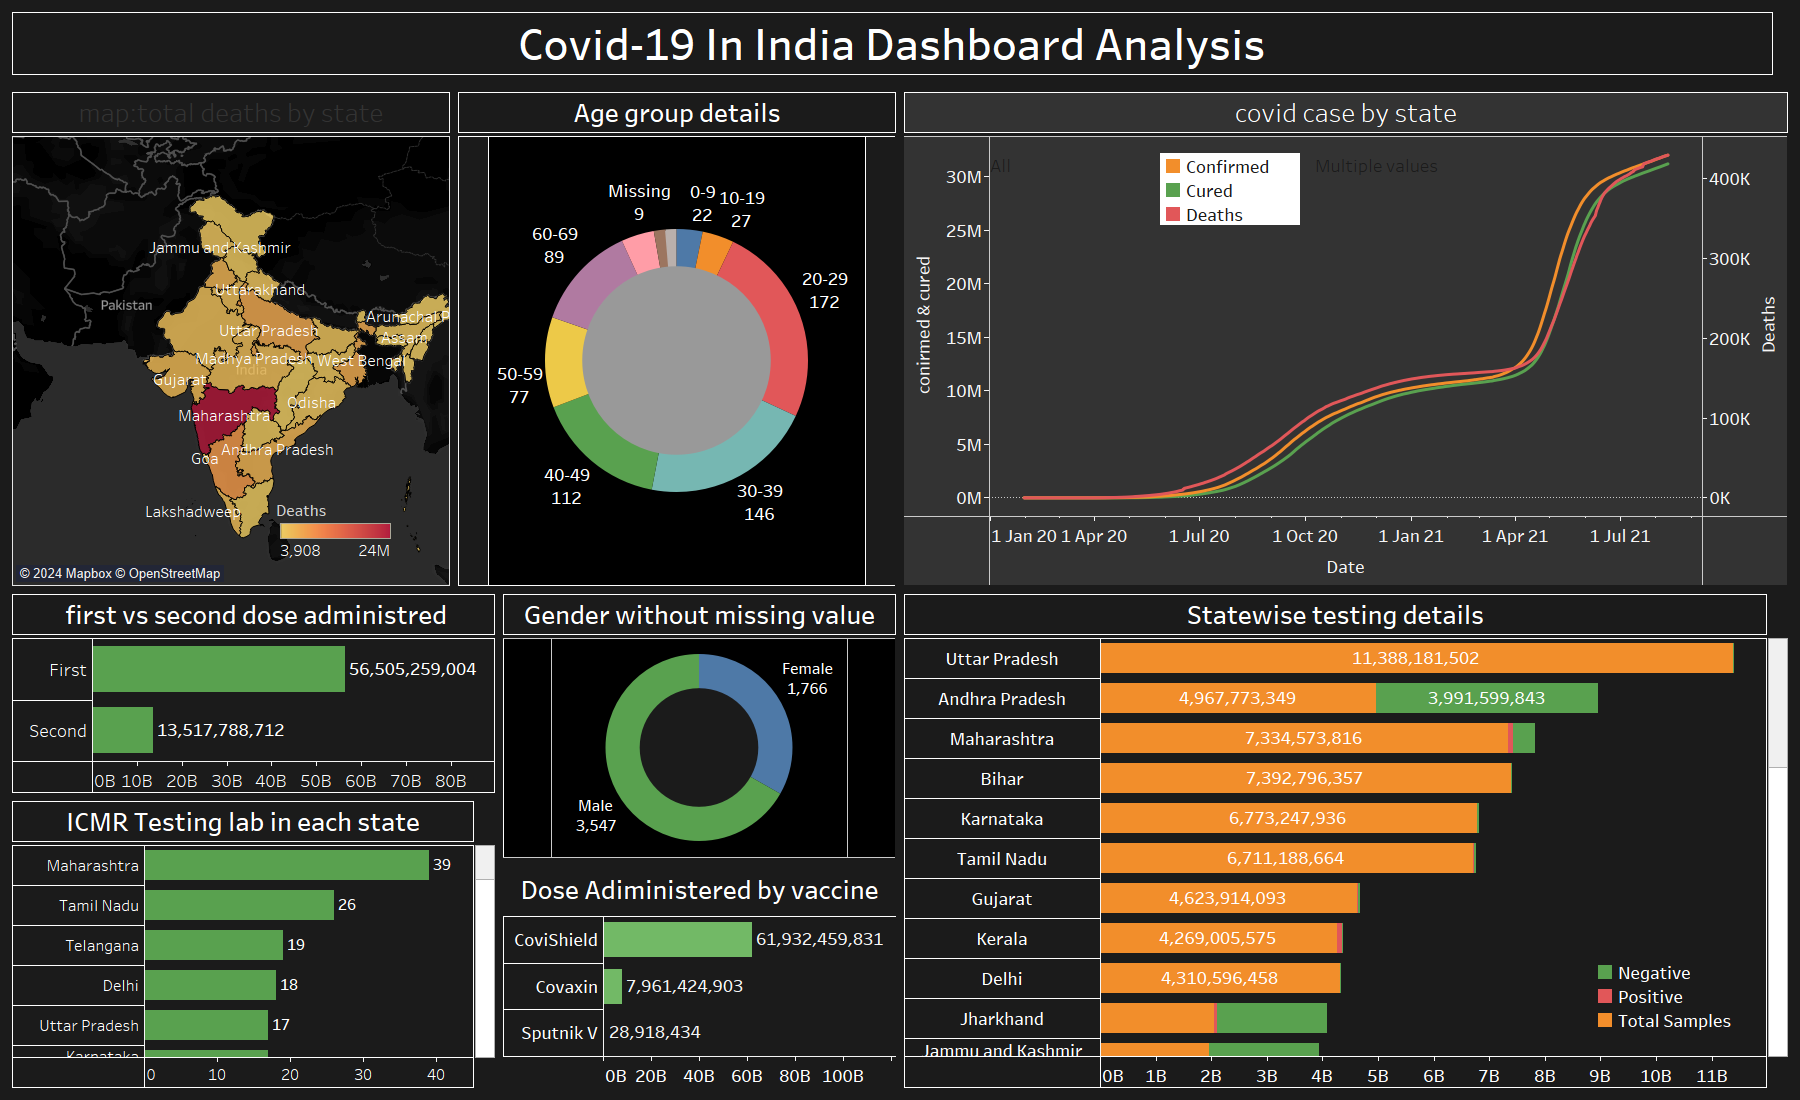

The page's visual inventory and layout, read from the dashboard file:
{"tool":"tableau","page":{"name":"Dashboard 1","canvas":[1800,1100],"ordinal":0},"visuals":[{"type":"worksheet","title":"title","mark":"Automatic","box":[8,8,1784,80]},{"type":"worksheet","title":"map:total deaths by state","mark":"Automatic","box":[8,88,446,502]},{"type":"worksheet","title":"Age group details","mark":"Pie","rows":["Calculation_1354176121066823685","Calculation_1354176121067016199"],"box":[454,88,446,502]},{"type":"worksheet","title":"covid case by state","mark":"Automatic","rows":["Deaths"],"cols":["Date"],"box":[900,88,892,502]},{"type":"filter","title":"covid case by state","param":"[federated.0zqmsfr0oqx2m6119wvam1gf0f7i].[:Measure Names]","box":[1309,149,160,39]},{"type":"filter","title":"covid case by state","param":"[federated.0zqmsfr0oqx2m6119wvam1gf0f7i].[none:State/UnionTerritory:nk]","box":[988,153,168,63]},{"type":"legend","title":"covid case by state","param":"[federated.0zqmsfr0oqx2m6119wvam1gf0f7i].[:Measure Names]","box":[1160,153,140,72]},{"type":"legend","title":"map:total deaths by state","param":"[federated.0zqmsfr0oqx2m6119wvam1gf0f7i].[sum:Deaths:qk]","box":[276,496,119,77]},{"type":"worksheet","title":" first vs second dose administred","mark":"Automatic","box":[8,590,491,207.5]},{"type":"worksheet","title":"Gender without missing value","mark":"Pie","rows":["Calculation_1354176121075564558","Calculation_1354176121075580944"],"box":[499,590,401,272]},{"type":"worksheet","title":"Statewise testing details","mark":"Automatic","rows":["State"],"box":[900,590,892,502]},{"type":"worksheet","title":"ICMR Testing lab in each state","mark":"Automatic","rows":["state"],"cols":["city"],"box":[8,797.5,491,294.5]},{"type":"worksheet","title":"Dose Adiministered by vaccine","mark":"Automatic","box":[499,862,401,230]},{"type":"legend","title":"Statewise testing details","param":"[federated.0vphnz71n87ojy1az70s11luxlgw].[:Measure Names]","box":[1593,960,143,72]}]}

Visuals, with their boxes in screenshot pixels (x1, y1, x2, y2), scaled from the page's 1800x1100 canvas onto the 1800x1100 screenshot:
"title" worksheet: <box>8,8,1792,88</box>
"map:total deaths by state" worksheet: <box>8,88,454,590</box>
"Age group details" worksheet (Pie marks): <box>454,88,900,590</box>
"covid case by state" worksheet: <box>900,88,1792,590</box>
"covid case by state" filter: <box>1309,149,1469,188</box>
"covid case by state" filter: <box>988,153,1156,216</box>
"covid case by state" legend: <box>1160,153,1300,225</box>
"map:total deaths by state" legend: <box>276,496,395,573</box>
" first vs second dose administred" worksheet: <box>8,590,499,798</box>
"Gender without missing value" worksheet (Pie marks): <box>499,590,900,862</box>
"Statewise testing details" worksheet: <box>900,590,1792,1092</box>
"ICMR Testing lab in each state" worksheet: <box>8,798,499,1092</box>
"Dose Adiministered by vaccine" worksheet: <box>499,862,900,1092</box>
"Statewise testing details" legend: <box>1593,960,1736,1032</box>
